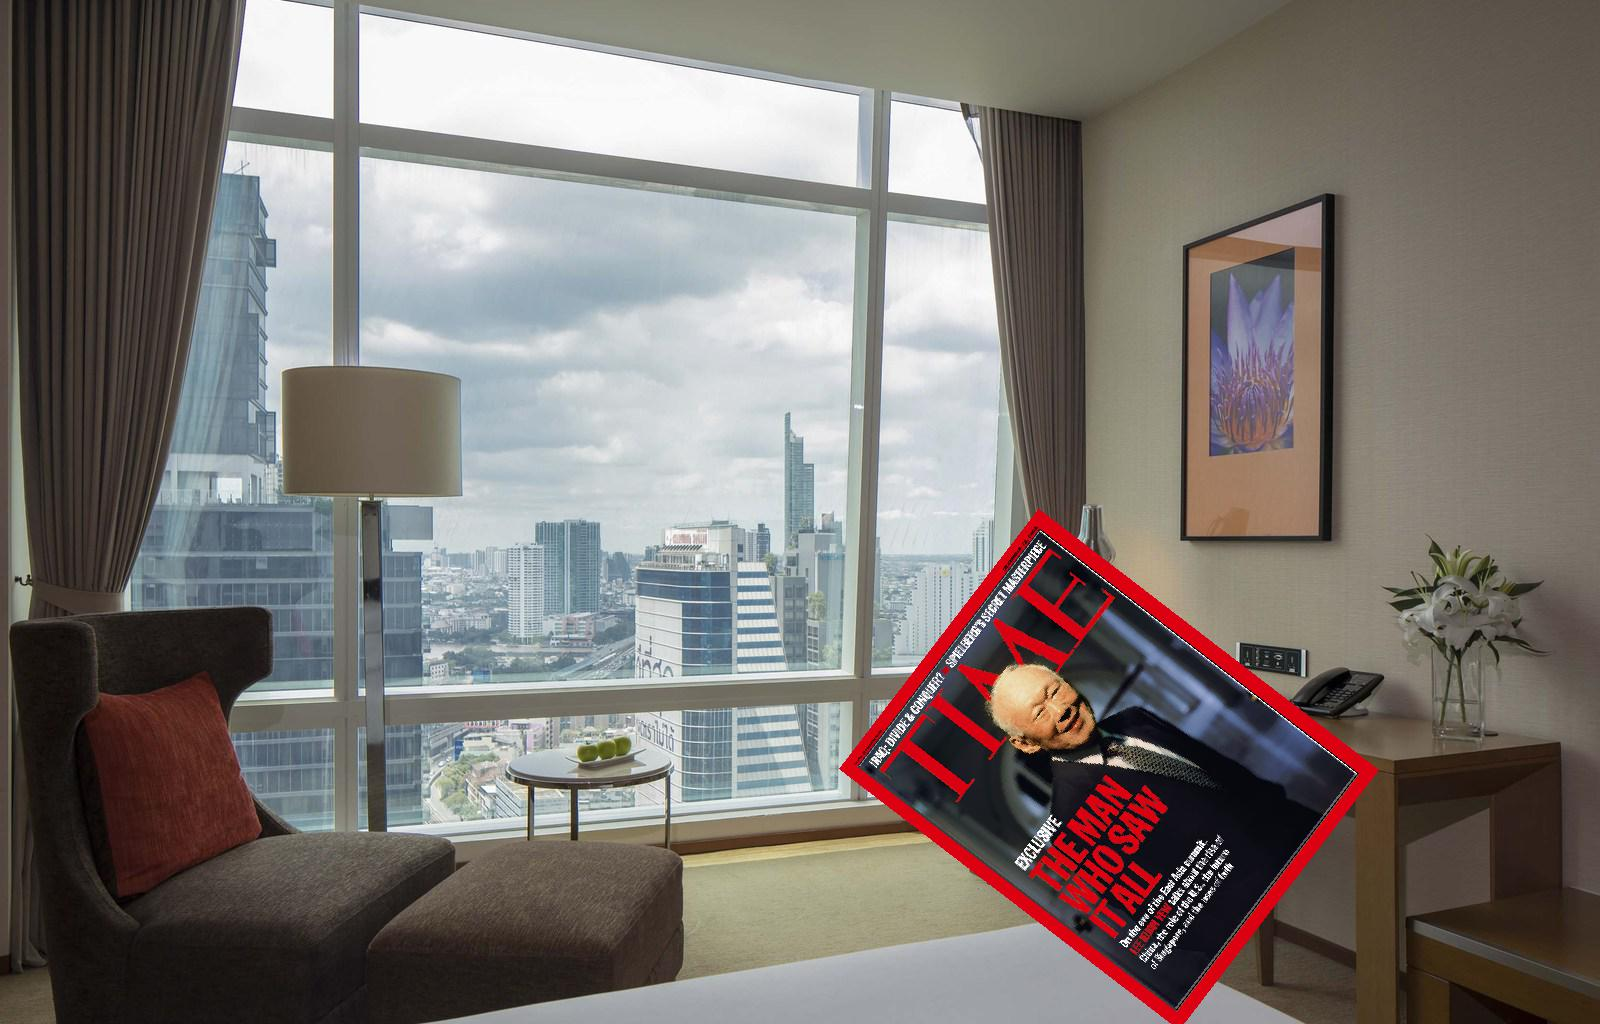times: (831, 502, 1389, 1024)
